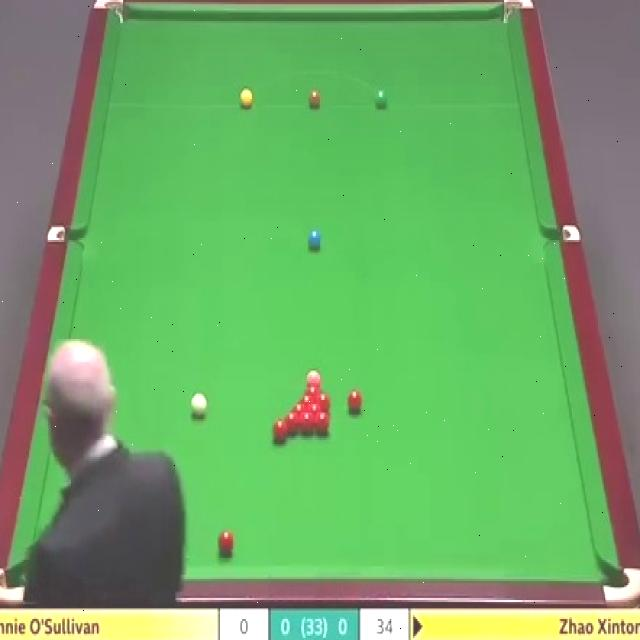blue-ball: (306, 227, 321, 254)
brown-ball: (308, 88, 321, 108)
green-ball: (375, 89, 388, 108)
pink-ball: (306, 369, 322, 388)
red-ball: (314, 409, 332, 435), (216, 529, 234, 554), (282, 411, 300, 436), (347, 388, 362, 417), (273, 418, 288, 444), (314, 394, 331, 414), (298, 394, 315, 411), (300, 412, 314, 432), (306, 406, 324, 420), (293, 404, 307, 419)
white-ball: (190, 392, 207, 421)
yellow-ball: (239, 88, 253, 108)
